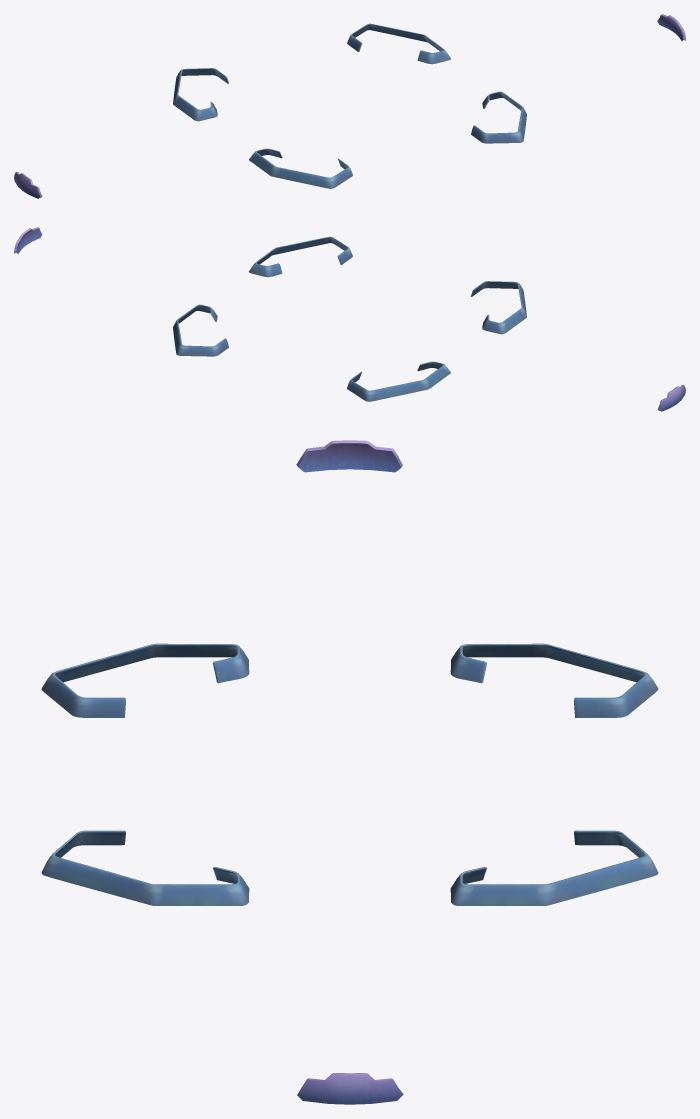
Rendered from pref_sm_4v4pointbake_CSD_BL_lv1.fbx.
The picture shows the model from 3 angles, top to bottom: view 1: azimuth 30°, elevation 25°; view 2: azimuth 150°, elevation 25°; view 3: azimuth 270°, elevation 25°; orthographic projection. The views are drawn at different scales.
Parts seen in each view (by area): view 1: sm_4v4pointbake_CSD_BL03_lv1, sm_4v4pointbake_CSD_BL04_lv1, sm_4v4pointbake_CSD_BL01_lv1, sm_4v4pointbake_CSD_BL02_lv1; view 2: sm_4v4pointbake_CSD_BL03_lv1, sm_4v4pointbake_CSD_BL04_lv1, sm_4v4pointbake_CSD_BL01_lv1, sm_4v4pointbake_CSD_BL02_lv1; view 3: sm_4v4pointbake_CSD_BL04_lv1, sm_4v4pointbake_CSD_BL03_lv1, sm_4v4pointbake_CSD_BL02_lv1, sm_4v4pointbake_CSD_BL01_lv1.
Boxes of the visible parts, x1,y1,x2,y2 form: sm_4v4pointbake_CSD_BL03_lv1: (173,68,352,188); sm_4v4pointbake_CSD_BL04_lv1: (347,23,526,143); sm_4v4pointbake_CSD_BL01_lv1: (14,172,42,198); sm_4v4pointbake_CSD_BL02_lv1: (657,14,685,40); sm_4v4pointbake_CSD_BL03_lv1: (347,281,526,401); sm_4v4pointbake_CSD_BL04_lv1: (173,236,352,356); sm_4v4pointbake_CSD_BL01_lv1: (657,384,685,411); sm_4v4pointbake_CSD_BL02_lv1: (14,227,42,253); sm_4v4pointbake_CSD_BL04_lv1: (41,830,658,905); sm_4v4pointbake_CSD_BL03_lv1: (41,643,658,717); sm_4v4pointbake_CSD_BL02_lv1: (297,1073,403,1104); sm_4v4pointbake_CSD_BL01_lv1: (296,440,402,472).
Bounding box in the file's own units: 77.24 × 1.6 × 31.5.
